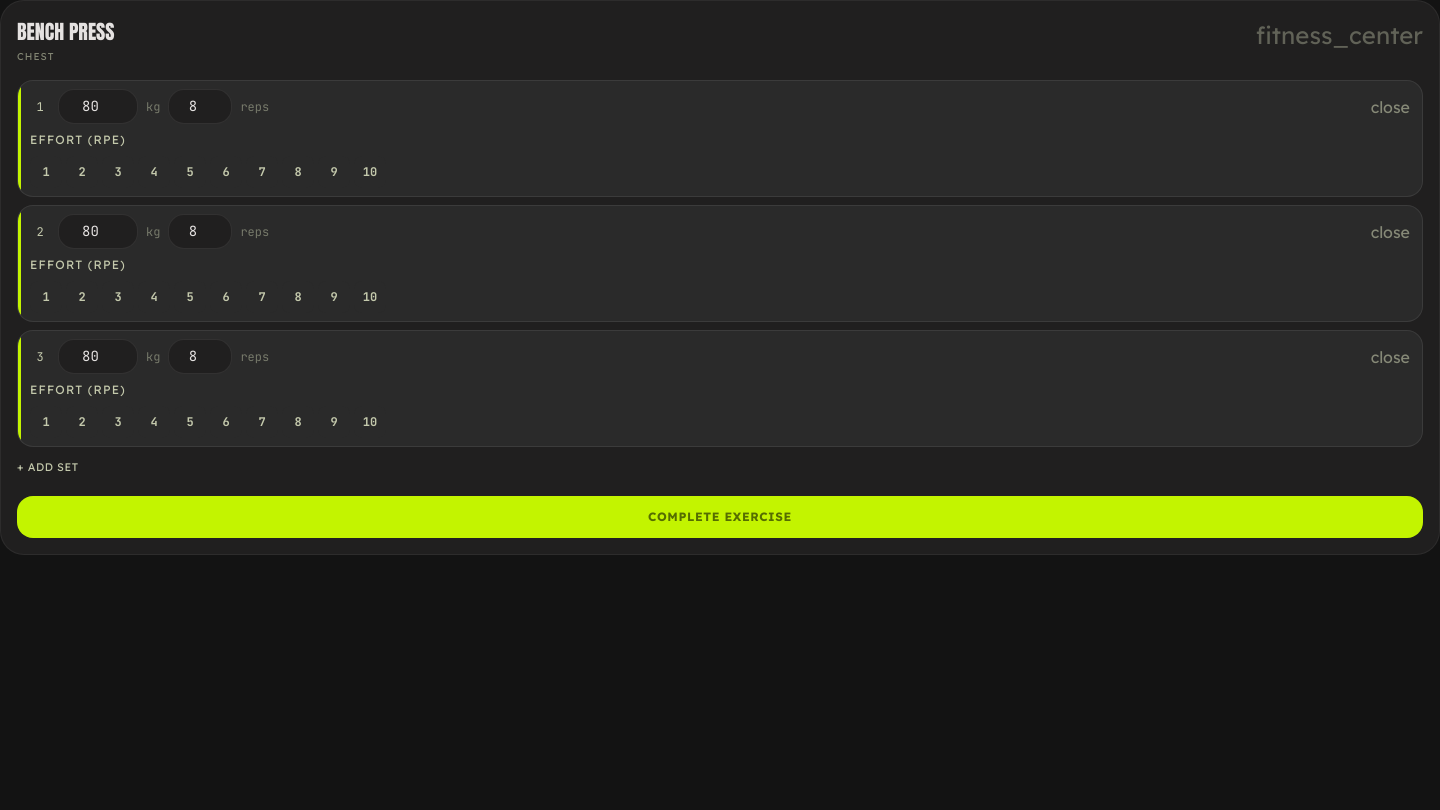
Test case: ExerciseLogger — multi-set strength › adds a new row when "Add Set" is clicked
The width and height of the screenshot is (1440, 810).
Click the button "+ Add Set".
click(48, 467)  # box [17,455,79,480]
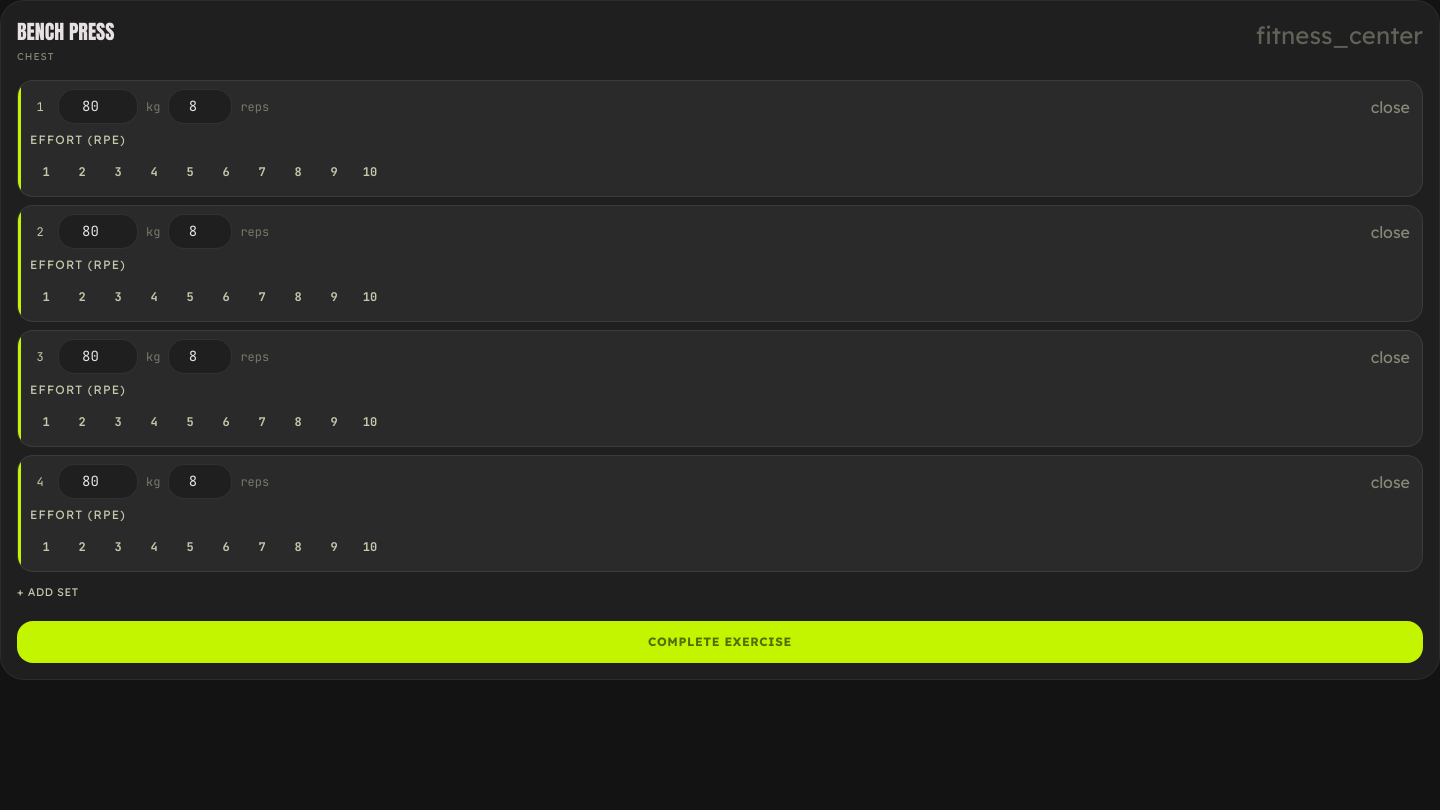
Result: the number of elements with test id "set-row" is 4 at [17,80,1423,197]; [17,205,1423,322]; [17,330,1423,447]; [17,455,1423,572]
